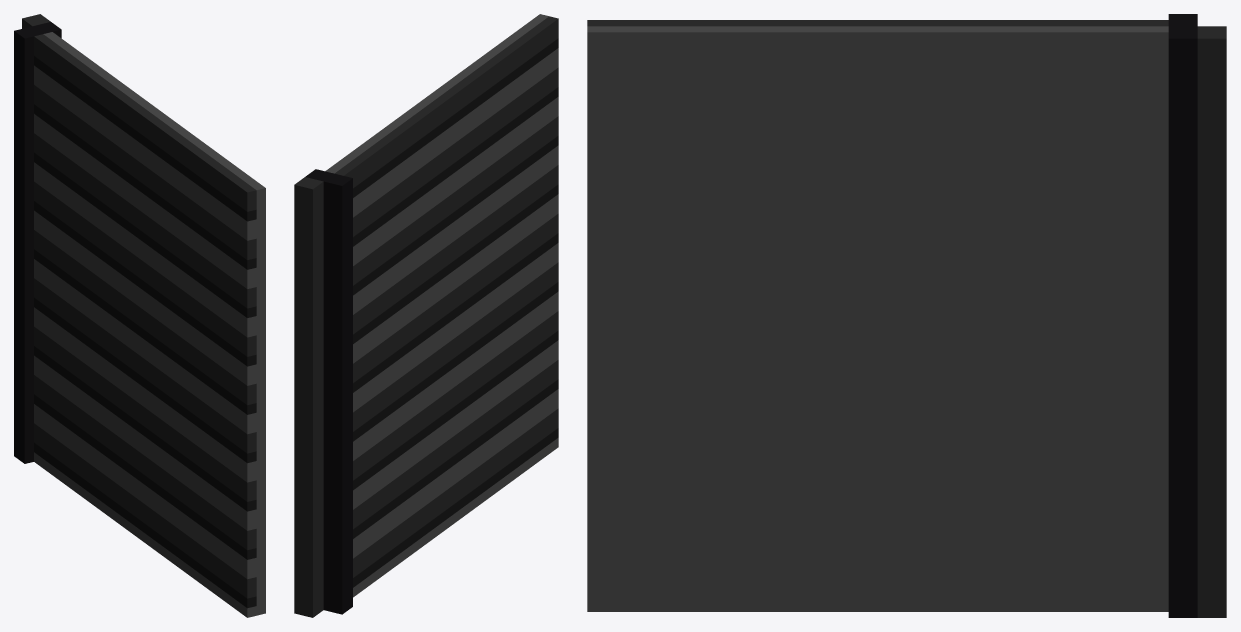
File: mesh_hanger_ship_door_middle_left.obj
The picture shows the model from 3 angles, left to right: view 1: azimuth 30°, elevation 25°; view 2: azimuth 150°, elevation 25°; view 3: azimuth 270°, elevation 25°; orthographic projection. The views are drawn at different scales.
Bounding box in the file's own units: 0.4 × 4.4 × 4.4.
1 material, 1 textured.
